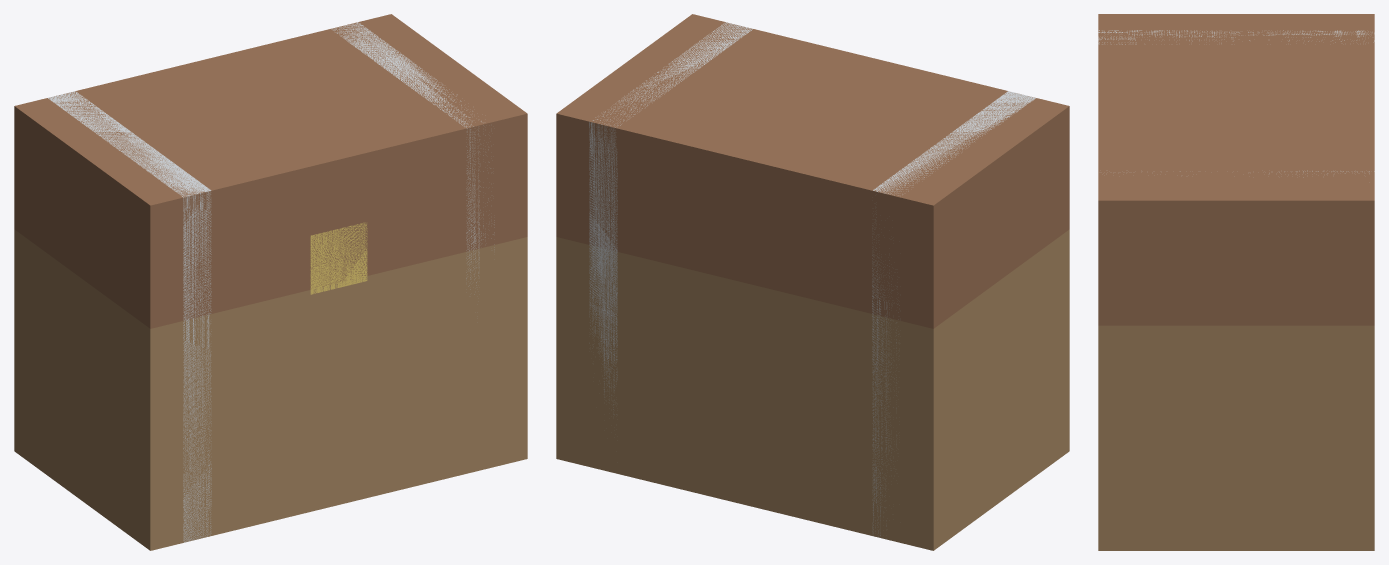
File: interior_chest.glb
3 renders of one model, left to right at view 1: azimuth 30°, elevation 25°; view 2: azimuth 150°, elevation 25°; view 3: azimuth 270°, elevation 25°, orthographic.
Parts seen in each view (by area): view 1: body, lid, band, band.001, latch; view 2: body, lid, band.001, band; view 3: lid, body, band.
Part boxes in pixels (x1,y1,x2,y2): body: [14, 229, 527, 550]; lid: [14, 14, 527, 328]; band: [48, 91, 211, 542]; band.001: [331, 22, 494, 294]; latch: [310, 222, 367, 294]; body: [556, 229, 1069, 550]; lid: [556, 14, 1069, 328]; band.001: [589, 22, 752, 414]; band: [872, 91, 1035, 539]; lid: [1098, 14, 1374, 325]; body: [1098, 325, 1374, 550]; band: [1098, 30, 1374, 44].
Bounding box in the file's own units: 0.8 × 0.7 × 0.5.
